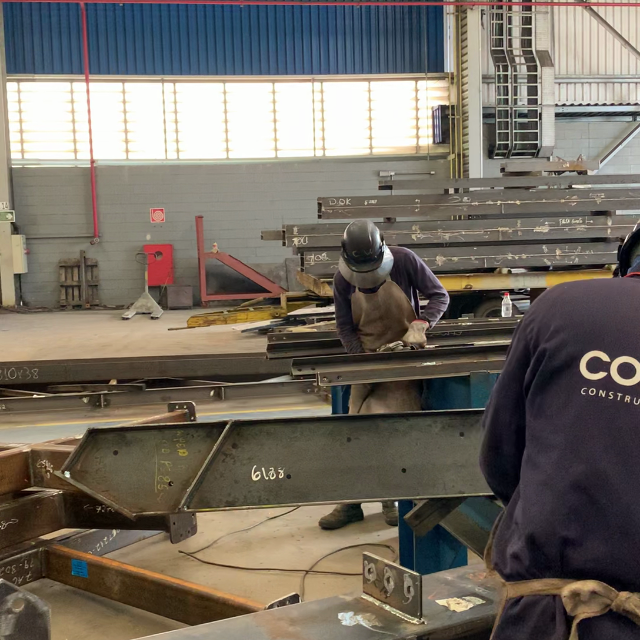face-shield: (338, 243, 395, 289)
glove: (403, 319, 429, 348)
helmet: (342, 219, 384, 267), (616, 216, 634, 279)
person: (479, 212, 637, 636), (334, 218, 449, 348)
